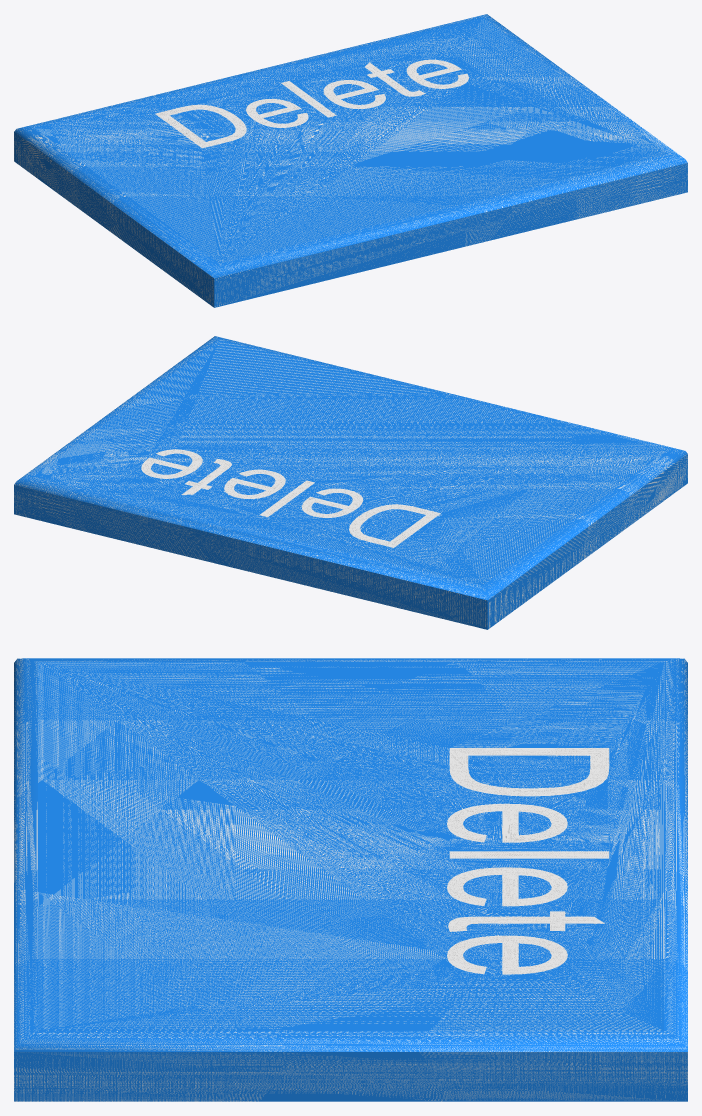
Rendered from original-33.obj.
The picture shows the model from 3 angles, top to bottom: view 1: azimuth 30°, elevation 25°; view 2: azimuth 150°, elevation 25°; view 3: azimuth 270°, elevation 25°; orthographic projection. The views are drawn at different scales.
Parts seen in each view (by area): view 1: mesh39/mesh39-geometry#mesh39-geometry; view 2: mesh39/mesh39-geometry#mesh39-geometry; view 3: mesh39/mesh39-geometry#mesh39-geometry.
Boxes of the visible parts, x1=… form: mesh39/mesh39-geometry#mesh39-geometry: x1=14, y1=14, x2=687, y2=307; mesh39/mesh39-geometry#mesh39-geometry: x1=14, y1=336, x2=687, y2=629; mesh39/mesh39-geometry#mesh39-geometry: x1=14, y1=658, x2=687, y2=1101.
Size of the model in its own units: 0.0768 by 0.0056 by 0.0562.
